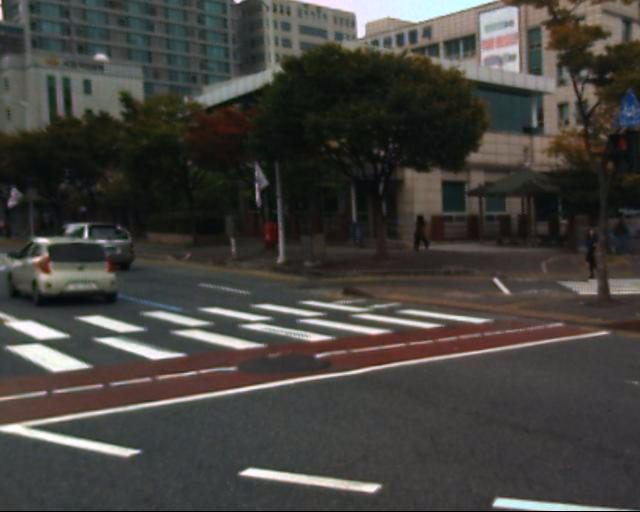person: (404, 207, 435, 257), (582, 217, 606, 280)
